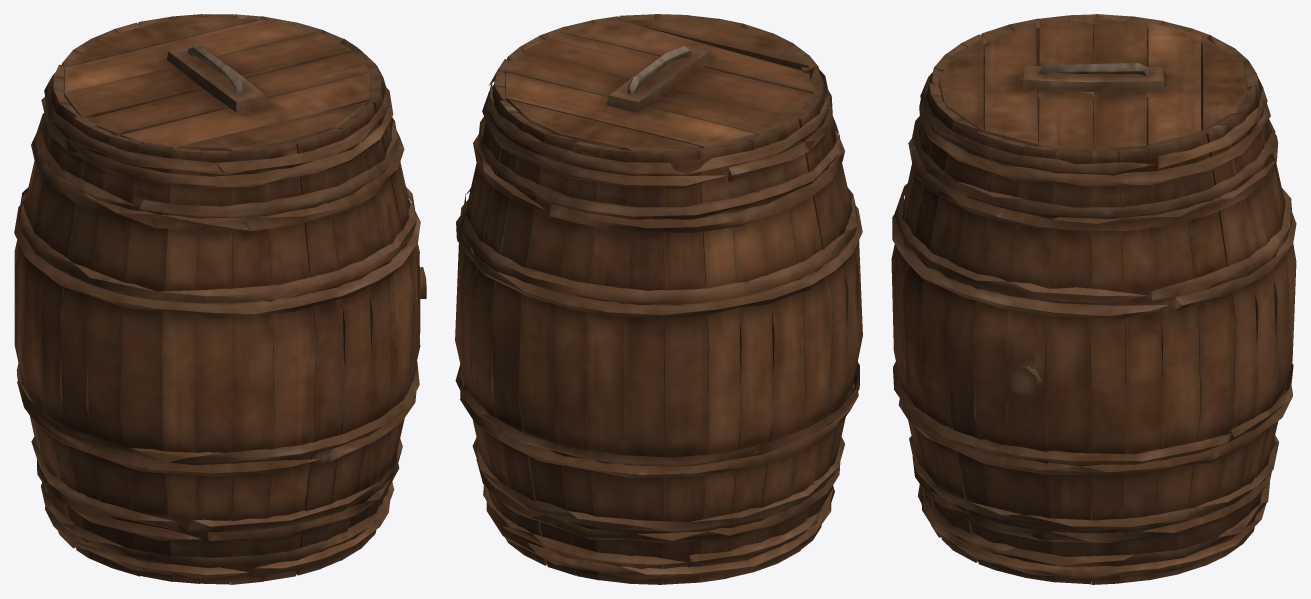
File: wooden_barrels_01.glb
3 views of the same model, side by side, from view 1: azimuth 30°, elevation 25°; view 2: azimuth 150°, elevation 25°; view 3: azimuth 270°, elevation 25° (orthographic).
Visible parts, largest first — view 1: wooden_barrels_01; view 2: wooden_barrels_01; view 3: wooden_barrels_01.
Part boxes in pixels (x1=…): wooden_barrels_01: x1=14, y1=14, x2=426, y2=584; wooden_barrels_01: x1=455, y1=14, x2=862, y2=584; wooden_barrels_01: x1=891, y1=14, x2=1296, y2=584.
Size of the model in its own units: 0.7414 by 0.9188 by 0.7411.
1 material, 1 textured.
